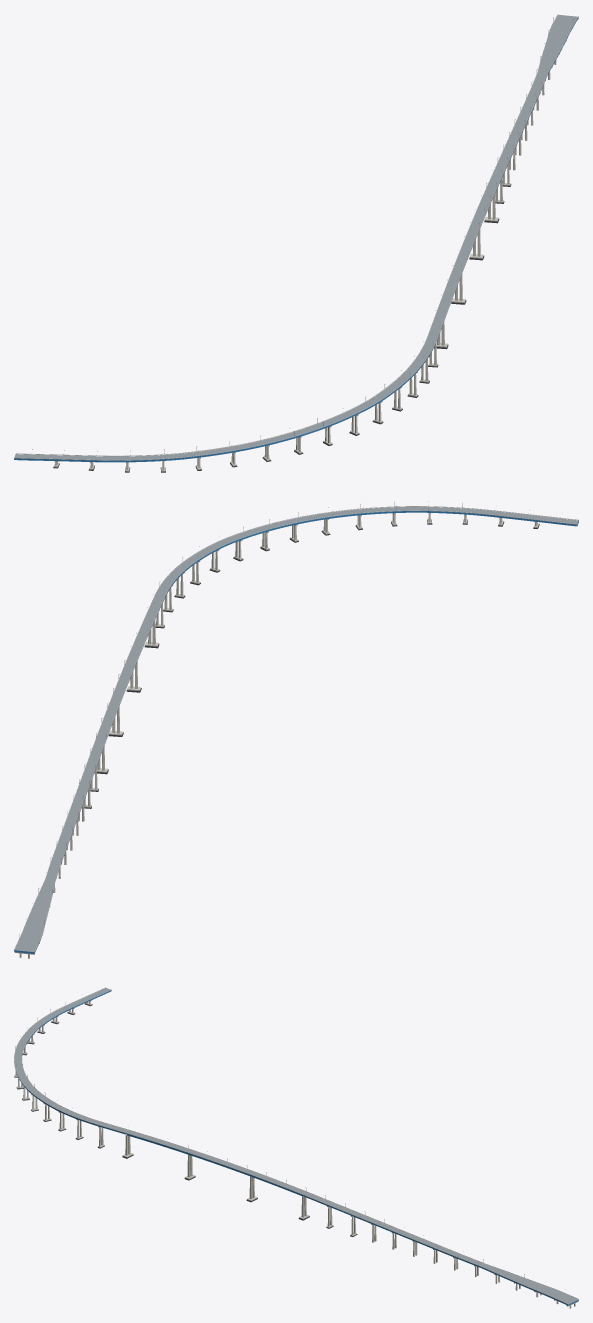
Rendered from sd-coronado-bridge.glb.
The picture shows the model from 3 angles, top to bottom: view 1: azimuth 30°, elevation 25°; view 2: azimuth 210°, elevation 25°; view 3: azimuth 270°, elevation 25°; orthographic projection. The views are drawn at different scales.
Parts seen in each view (by area): view 1: San Diego–Coronado Bridge; view 2: San Diego–Coronado Bridge; view 3: San Diego–Coronado Bridge.
Part boxes in pixels (x1,y1,x2,y2): San Diego–Coronado Bridge: [14, 14, 578, 472]; San Diego–Coronado Bridge: [14, 501, 578, 958]; San Diego–Coronado Bridge: [14, 987, 578, 1308].
Size of the model in its own units: 1904 by 86.37 by 1414.
